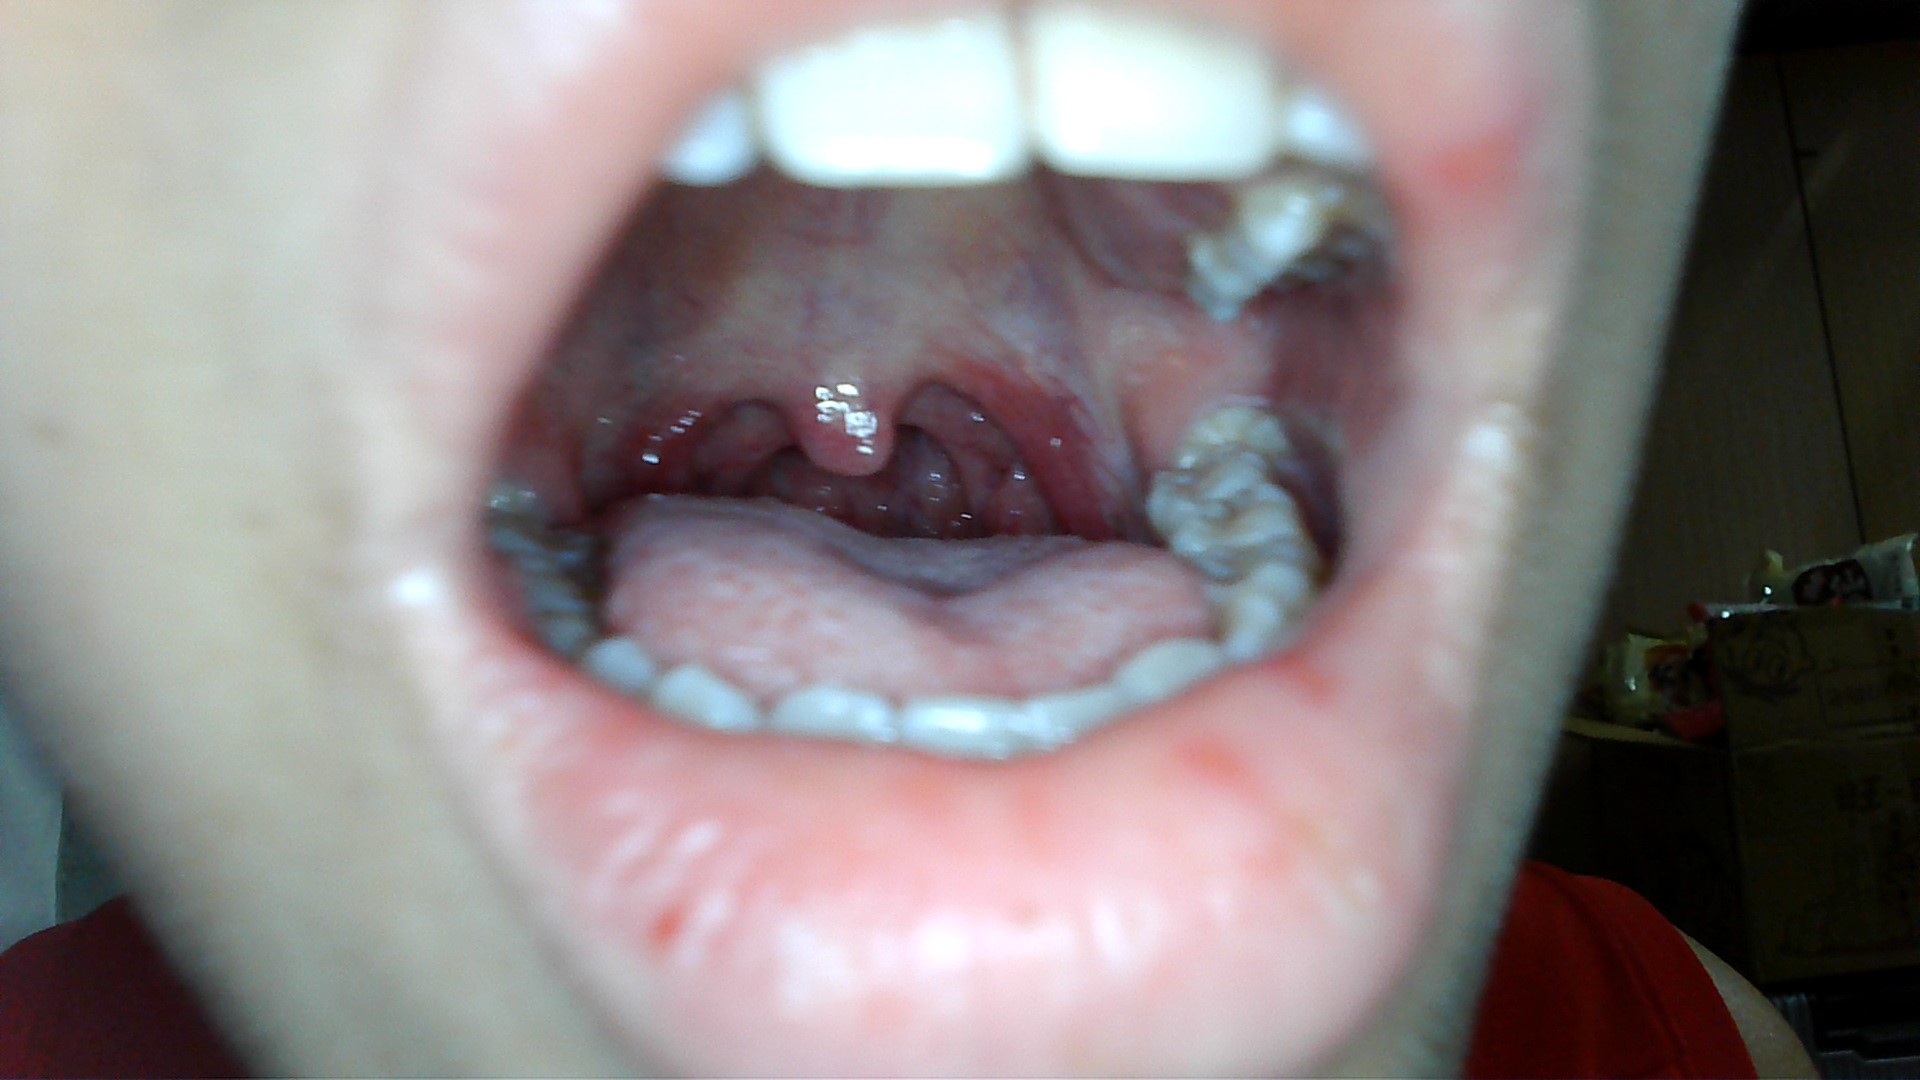throat: (963, 344, 1098, 531), (622, 352, 746, 492)
